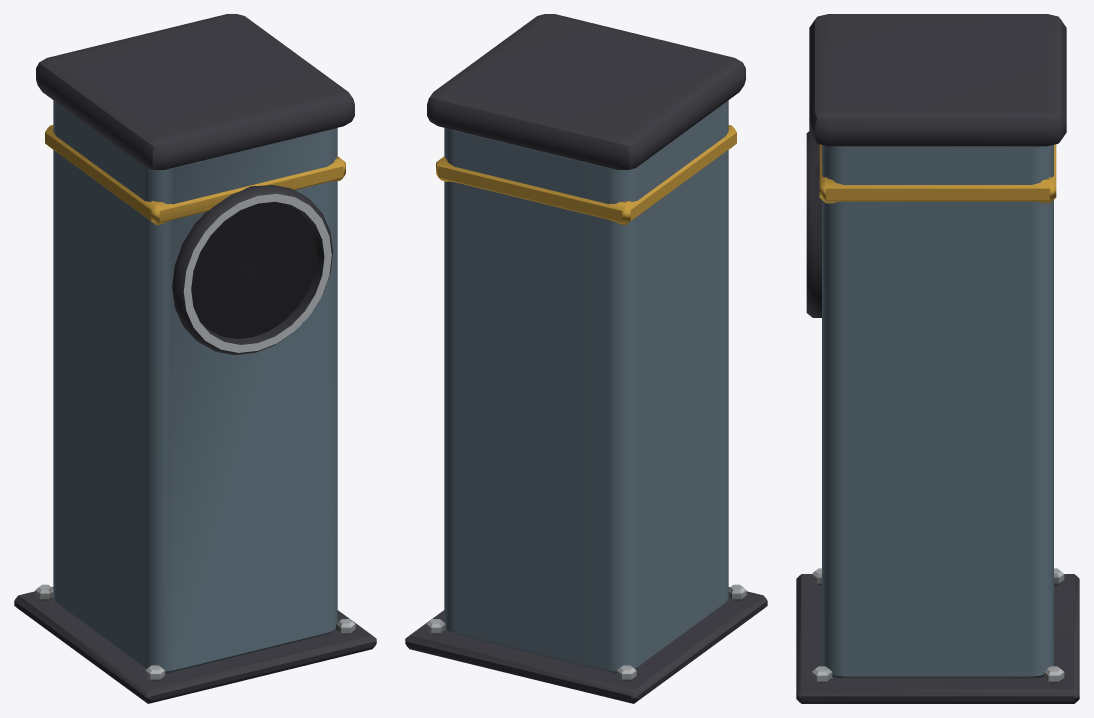
File: CallBollard.fbx
3 renders of one model, left to right at view 1: azimuth 30°, elevation 25°; view 2: azimuth 150°, elevation 25°; view 3: azimuth 270°, elevation 25°, orthographic. The views are drawn at different scales.
Visible parts, largest first — view 1: CallBollard; view 2: CallBollard; view 3: CallBollard.
Boxes of the visible parts, x1,y1,x2,y2 form: CallBollard: [14, 14, 376, 703]; CallBollard: [405, 14, 767, 703]; CallBollard: [796, 14, 1079, 703].
Bounding box in the file's own units: 0.44 × 1 × 0.44.
